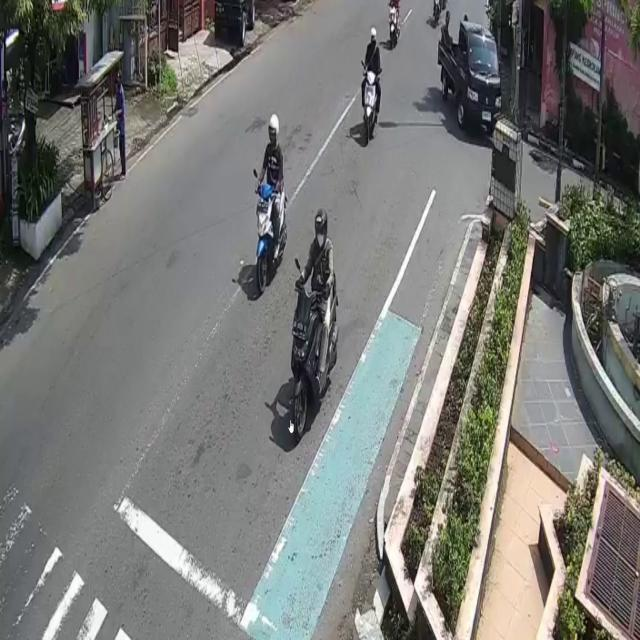car: (439, 21, 501, 142)
motorbike: (292, 270, 338, 434), (256, 175, 286, 291), (364, 68, 379, 142)
